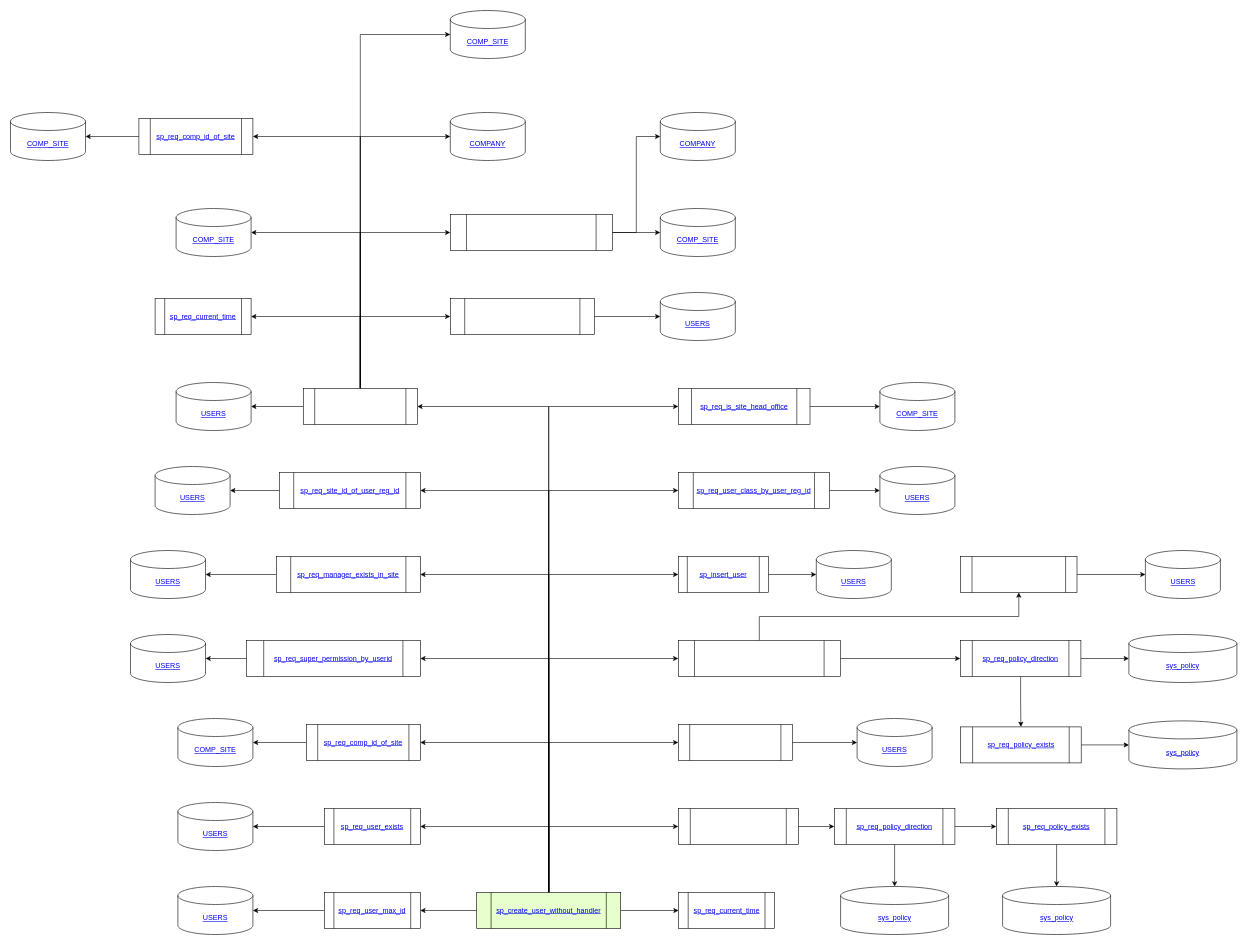
The diagram is 1247 pixels wide and 945 high, and some of its shapes have lost their labels. Each missing label, with the centre of its shape:
"sp_cs_confirm_account" goes at point 360,406.
"sp_req_count_of_users" goes at point 1018,574.
"sp_req_cs_manager_id_of_company" goes at point 531,232.
"sp_req_cs_manager_in_charge" goes at point 522,316.
"sp_req_use_same_phone" goes at point 738,826.
"sp_req_user_exists_by_id" goes at point 735,742.
"sp_req_whether_user_can_be_added" goes at point 759,658.
